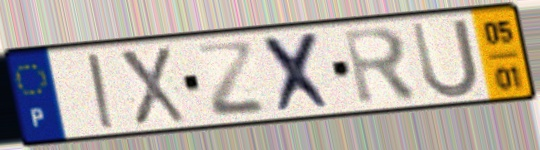I: (83, 50, 119, 132)
R: (340, 23, 422, 109)
U: (407, 15, 482, 101)
X: (258, 29, 339, 117), (114, 44, 190, 128)
Z: (193, 40, 269, 120)
